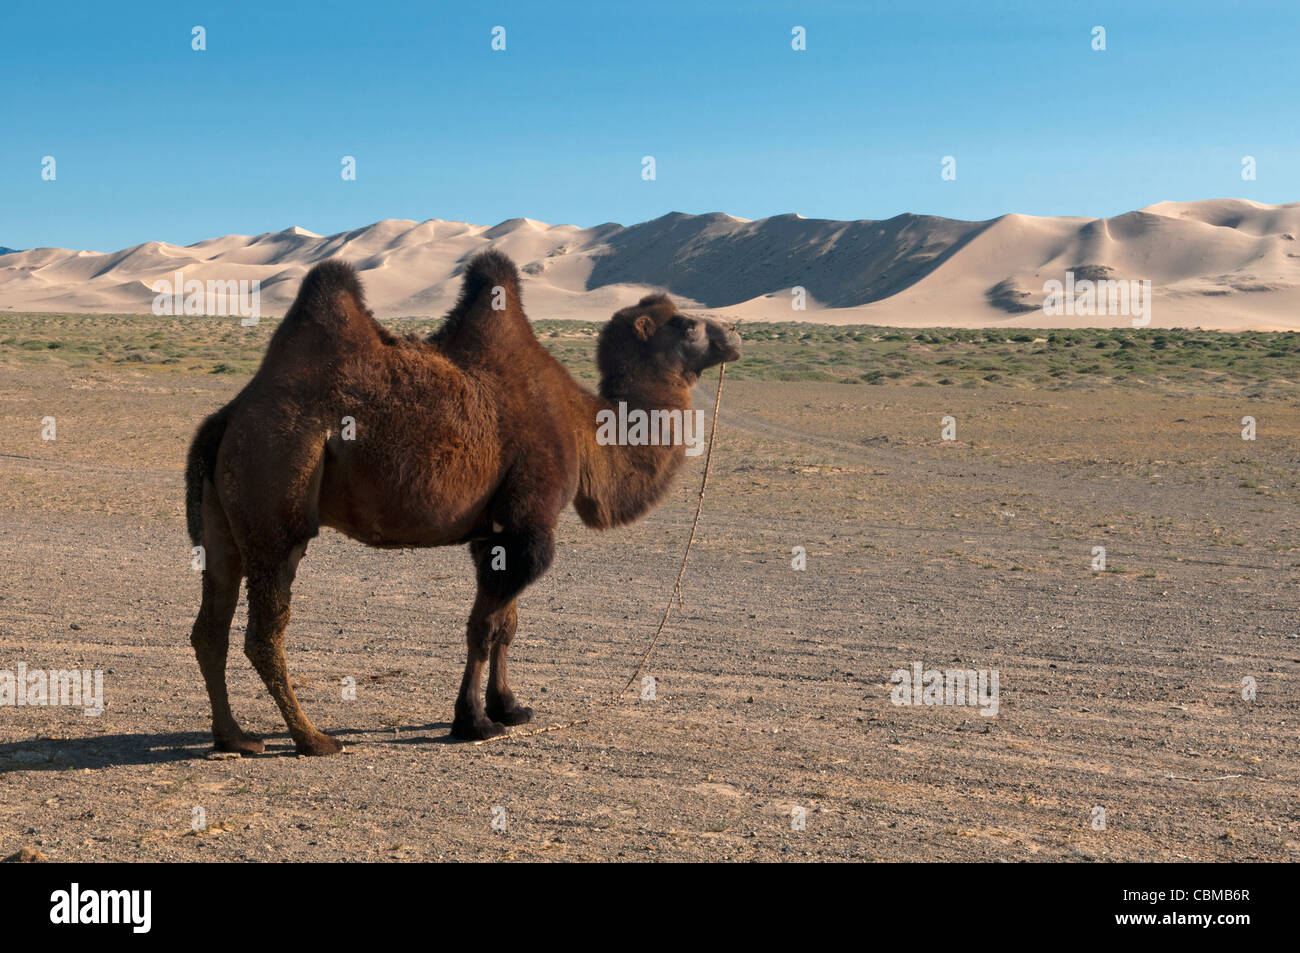camel: (141, 225, 756, 792)
